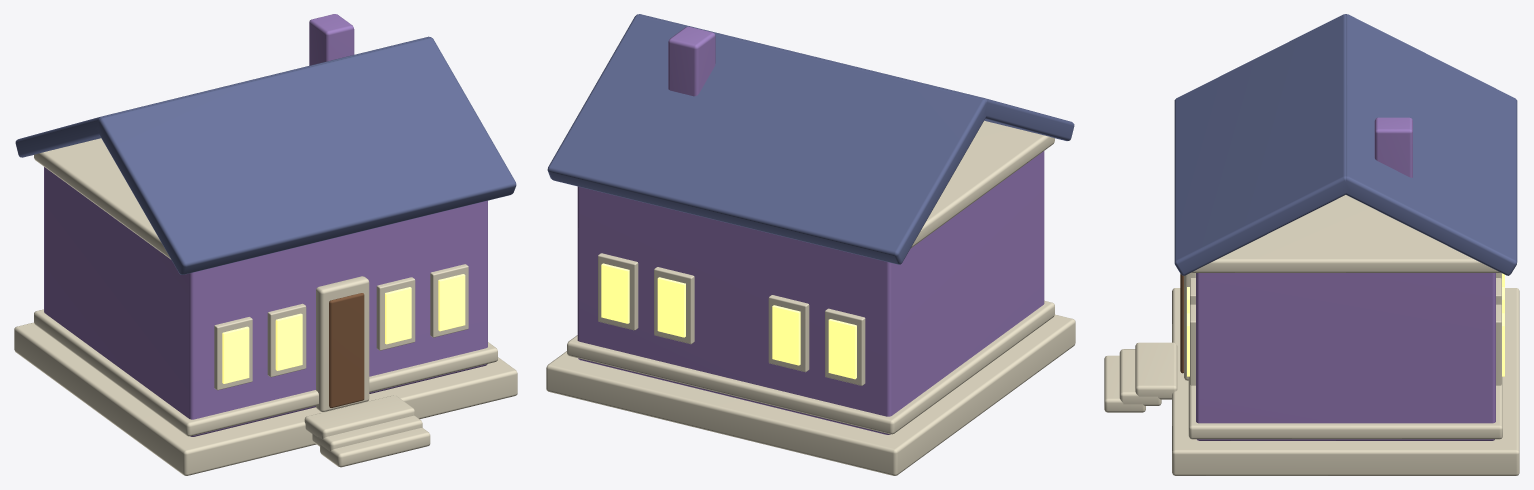
Rendered from SM_Hall_Fantasy.fbx.
3 renders of one model, left to right at view 1: azimuth 30°, elevation 25°; view 2: azimuth 150°, elevation 25°; view 3: azimuth 270°, elevation 25°, orthographic. The views are drawn at different scales.
Visible parts, largest first — view 1: SM_Hall_Fantasy; view 2: SM_Hall_Fantasy; view 3: SM_Hall_Fantasy.
Boxes of the visible parts, left/top/right/bottom form: SM_Hall_Fantasy: left=14, top=14, right=517, bottom=475; SM_Hall_Fantasy: left=546, top=14, right=1075, bottom=475; SM_Hall_Fantasy: left=1104, top=14, right=1519, bottom=475.
Bounding box in the file's own units: 325 × 347 × 290.
